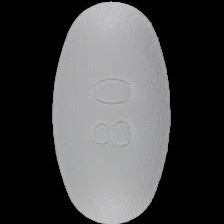49999-882: (0, 0, 224, 224)
